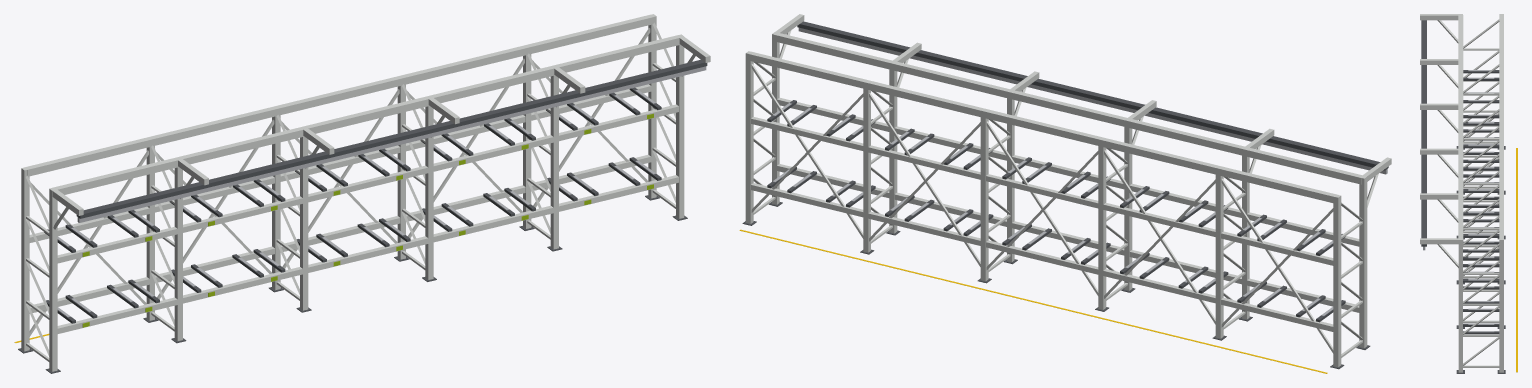
File: lp_rack_2L_10S.glb
3 renders of one model, left to right at view 1: azimuth 30°, elevation 25°; view 2: azimuth 150°, elevation 25°; view 3: azimuth 270°, elevation 25°, orthographic. The views are drawn at different scales.
Parts seen in each view (by area): view 1: rack_frame__truss_white, rack_frame__steel_dark, rack_frame__steel, rack_frame__lime; view 2: rack_frame__truss_white, rack_frame__steel_dark, rack_frame__steel, rack_frame__yellow; view 3: rack_frame__truss_white, rack_frame__steel_dark, rack_frame__steel, rack_frame__yellow.
Boxes of the visible parts, x1,y1,x2,y2 form: rack_frame__truss_white: [21, 14, 710, 371]; rack_frame__steel_dark: [18, 59, 707, 373]; rack_frame__steel: [57, 66, 706, 317]; rack_frame__lime: [82, 113, 653, 327]; rack_frame__truss_white: [745, 14, 1391, 367]; rack_frame__steel_dark: [742, 21, 1388, 369]; rack_frame__steel: [772, 27, 1387, 316]; rack_frame__yellow: [739, 229, 1327, 373]; rack_frame__truss_white: [1420, 14, 1503, 372]; rack_frame__steel_dark: [1421, 20, 1505, 373]; rack_frame__steel: [1423, 70, 1494, 332]; rack_frame__yellow: [1516, 148, 1517, 372].
Size of the model in its own units: 13.2 by 3.6 by 2.4.
